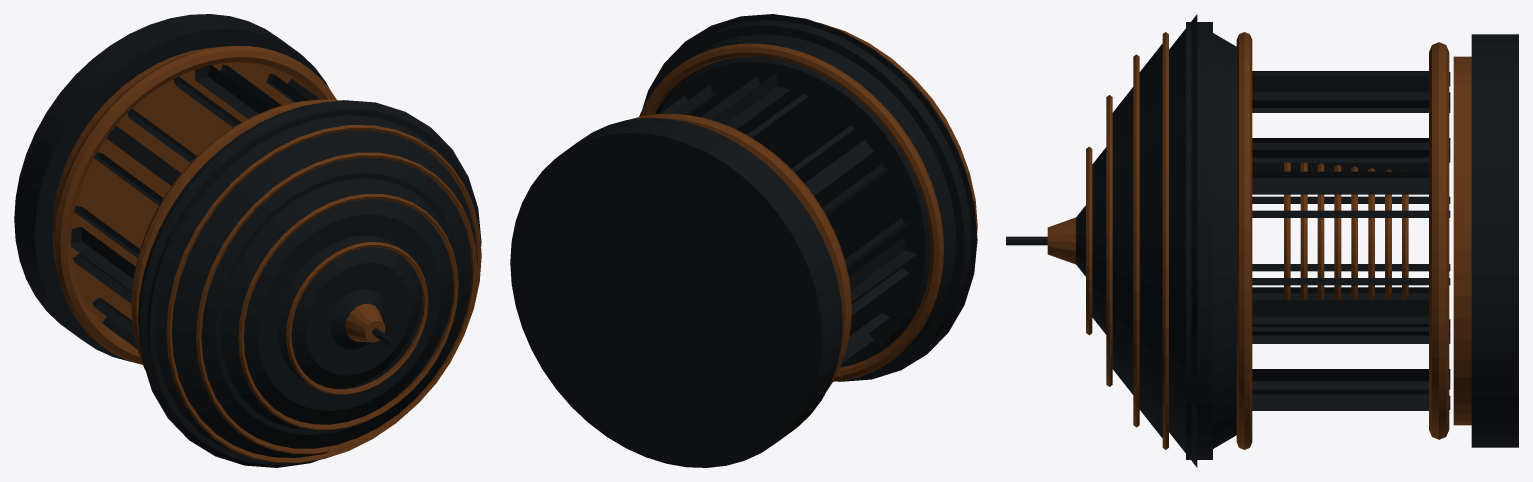
File: SM_BB_LH_LanternRoom.obj
The picture shows the model from 3 angles, left to right: view 1: azimuth 30°, elevation 25°; view 2: azimuth 150°, elevation 25°; view 3: azimuth 270°, elevation 25°; orthographic projection. The views are drawn at different scales.
Visible parts, largest first — view 1: SM_BB_LH_LanternRoom; view 2: SM_BB_LH_LanternRoom; view 3: SM_BB_LH_LanternRoom.
Boxes of the visible parts, <box> form: SM_BB_LH_LanternRoom: <box>14,14,481,467</box>; SM_BB_LH_LanternRoom: <box>510,14,977,467</box>; SM_BB_LH_LanternRoom: <box>1006,14,1518,467</box>.
Size of the model in its own units: 404 by 404 by 456.
